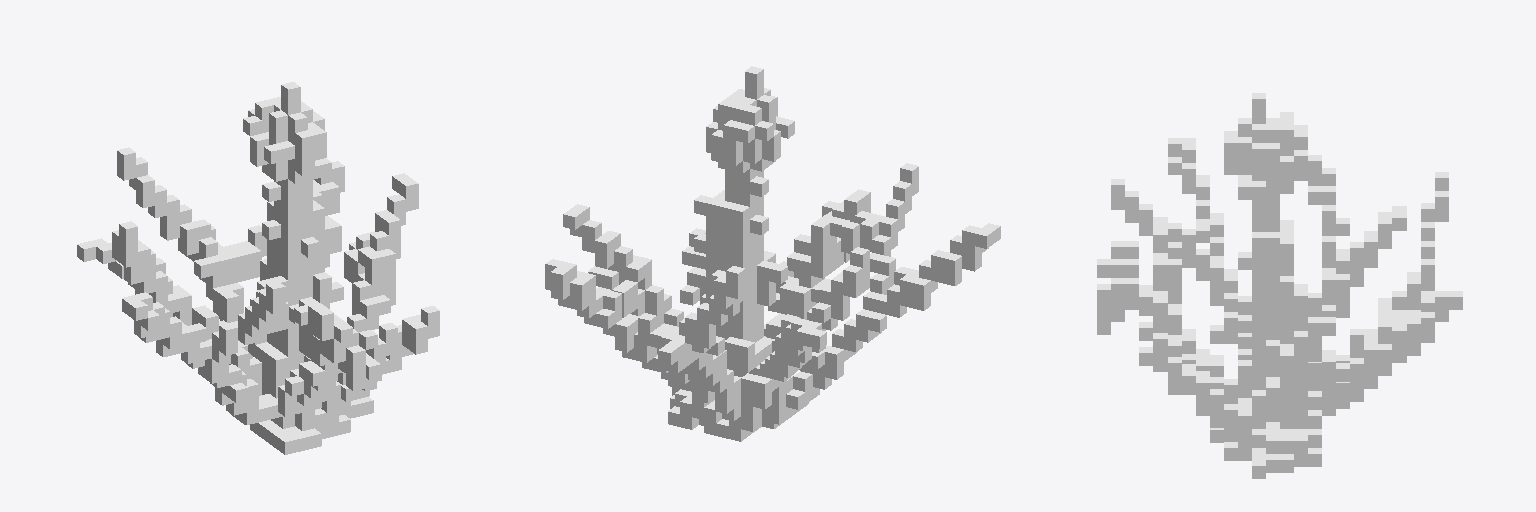
File: bush_white.obj
3 views of the same model, side by side, from view 1: azimuth 30°, elevation 25°; view 2: azimuth 150°, elevation 25°; view 3: azimuth 270°, elevation 25° (orthographic).
Visible parts, largest first — view 1: object 1; view 2: object 1; view 3: object 1.
Boxes of the visible parts, <box> form: object 1: <box>77,82,439,454</box>; object 1: <box>545,66,1000,441</box>; object 1: <box>1097,93,1462,478</box>.
Bounding box in the file's own units: 2.9 × 2.7 × 2.6.